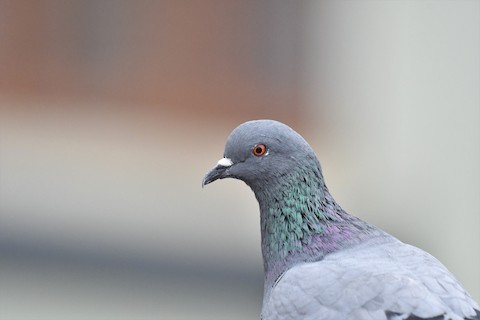pigeon: (199, 116, 479, 315)
